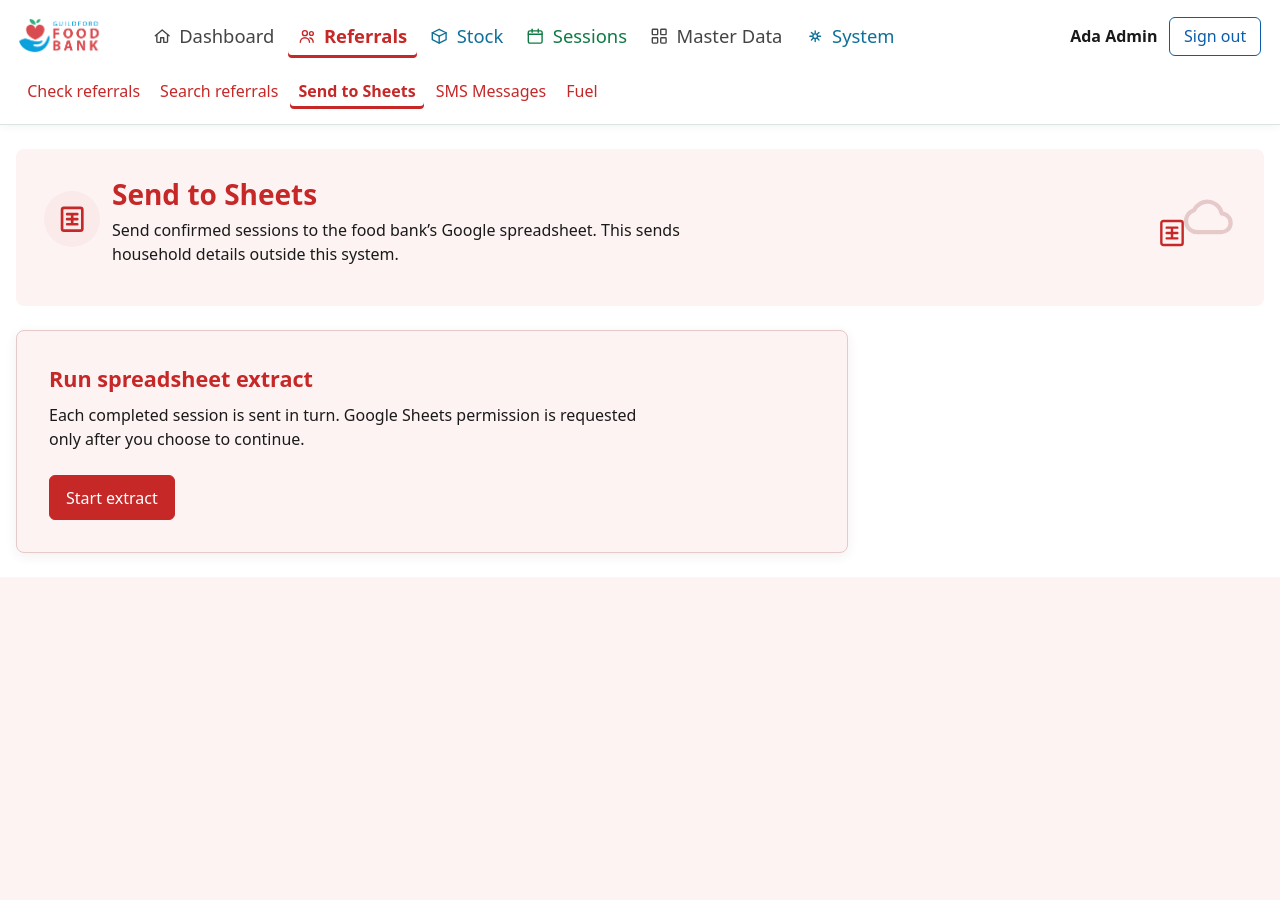
Scenario: spreadsheet extract › counts one processed session even when it writes several referral rows
This screenshot has width=1280, height=900.
Click the button "Start extract".
click(112, 498)  # box [49,475,175,520]
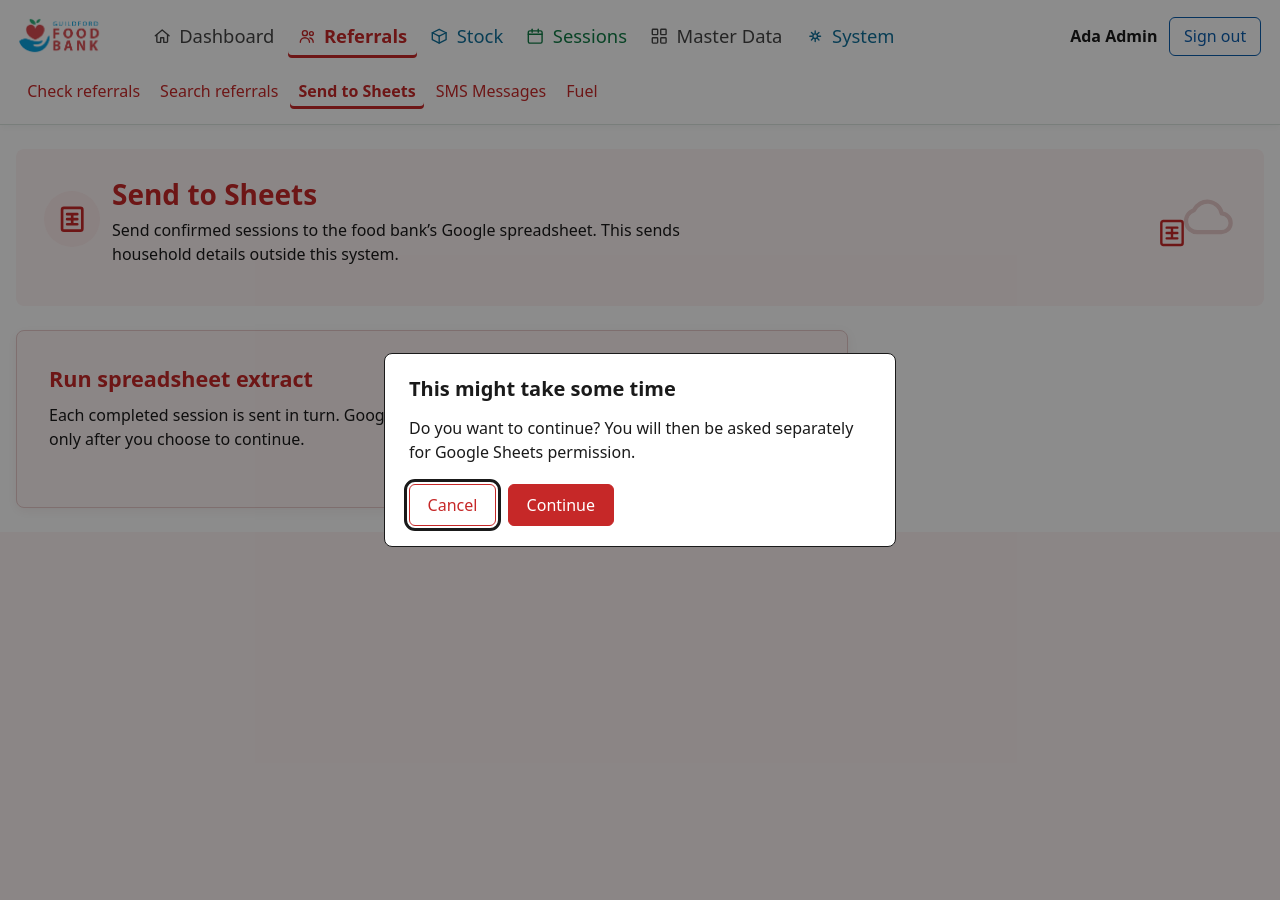
Click the button "Continue".
click(561, 505)  # box [508,484,614,526]
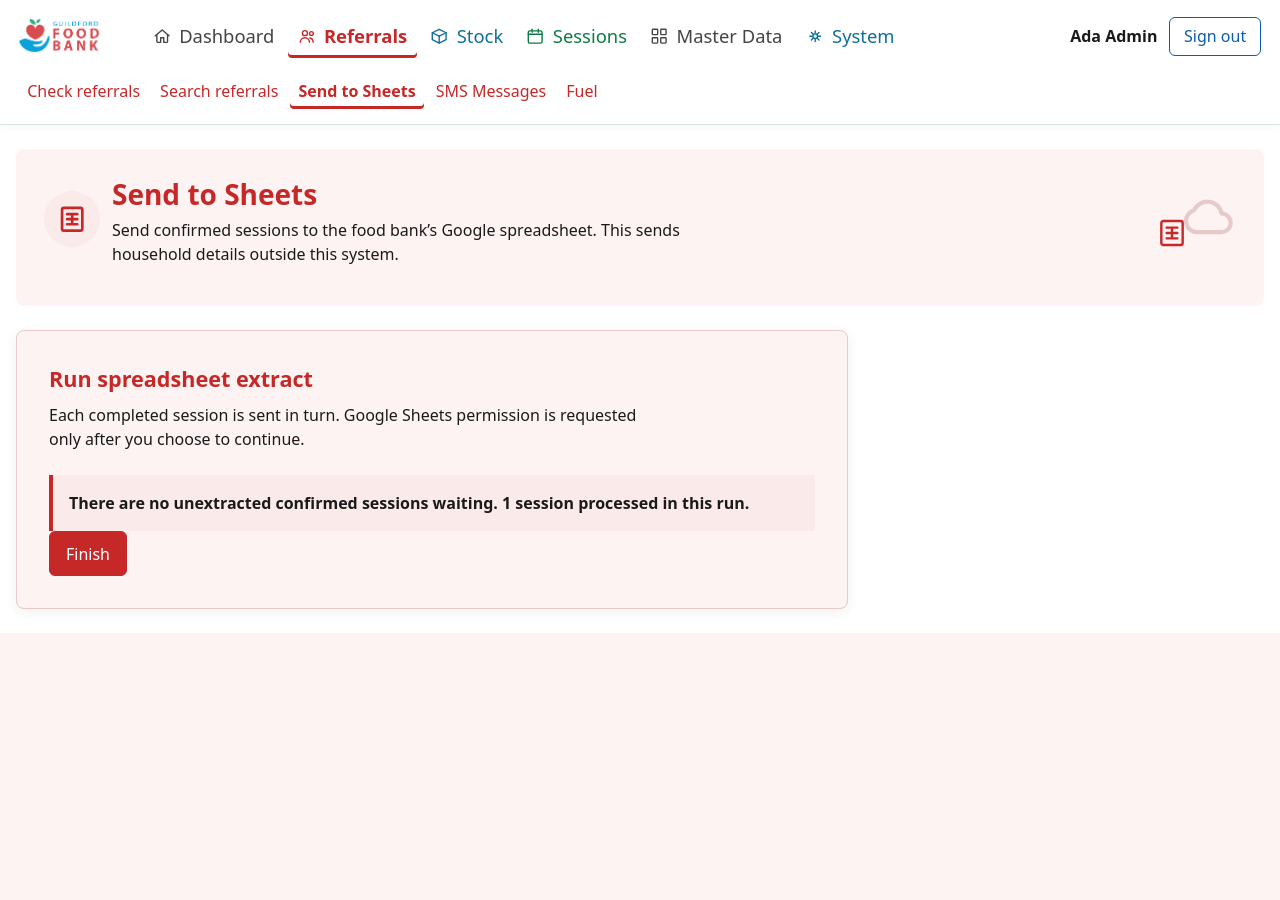
Now the message shows "1 session processed in this run.", box [49,475,815,531]
